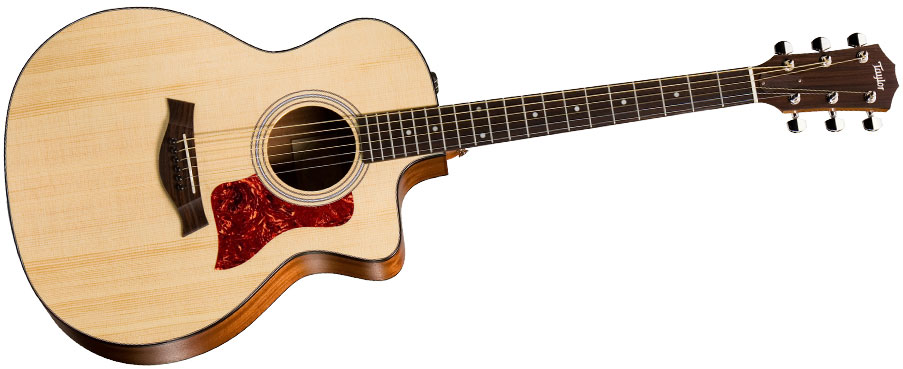guitar: (1, 2, 903, 369)
